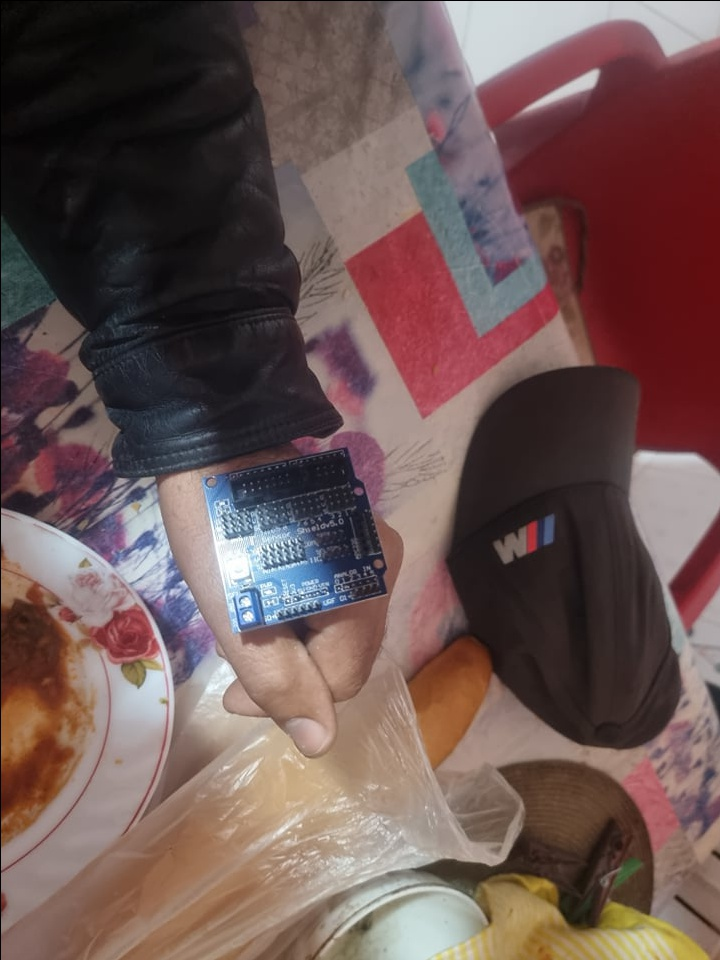5V EXPANSION: (198, 445, 391, 638)
